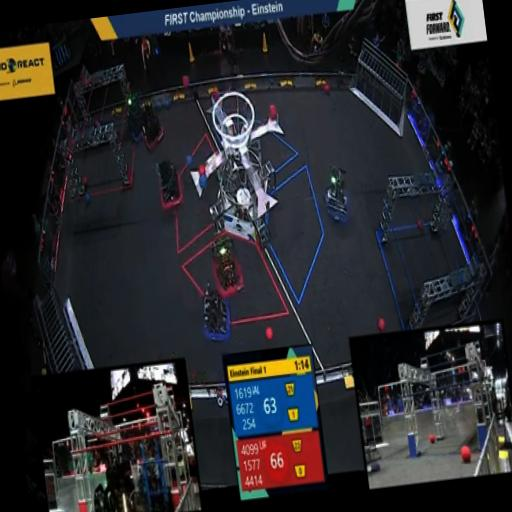robot: (202, 230, 248, 302), (318, 158, 355, 234), (192, 290, 237, 342), (154, 154, 186, 218), (118, 86, 150, 144), (135, 106, 169, 160)
